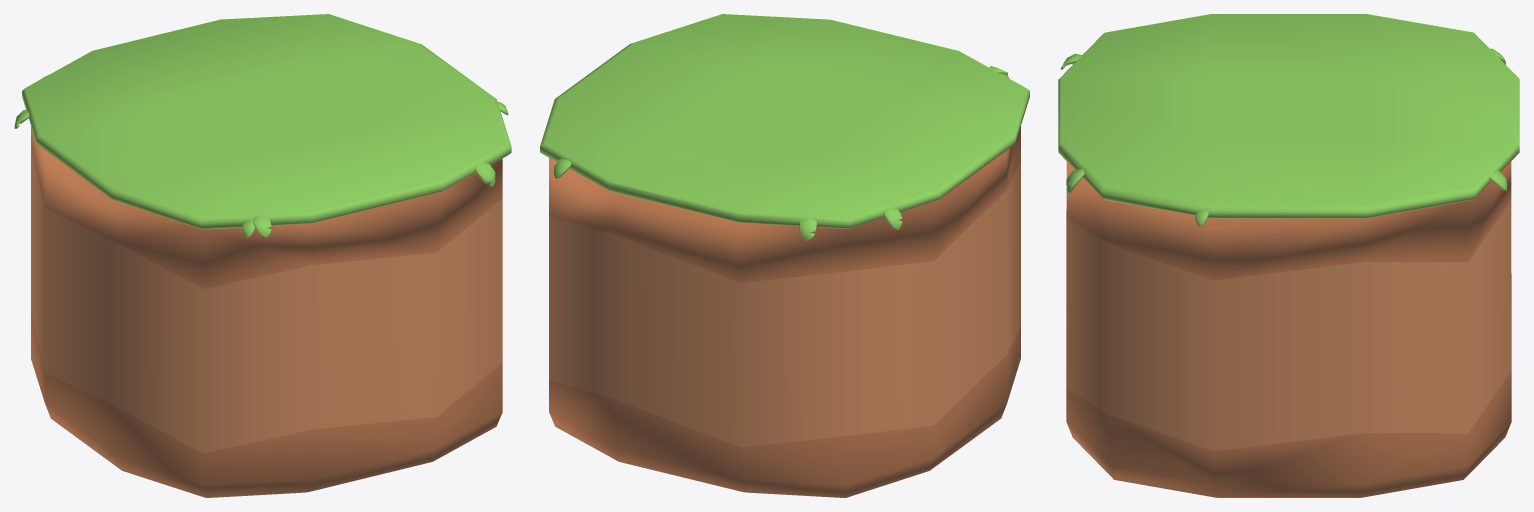
Rendered from platform_04.glb.
3 renders of one model, left to right at view 1: azimuth 30°, elevation 25°; view 2: azimuth 150°, elevation 25°; view 3: azimuth 270°, elevation 25°, orthographic. The views are drawn at different scales.
Visible parts, largest first — view 1: platform 01_toon_material_0.026; view 2: platform 01_toon_material_0.026; view 3: platform 01_toon_material_0.026.
Part boxes in pixels (left/top/right/bottom): platform 01_toon_material_0.026: left=14, top=14, right=511, bottom=497; platform 01_toon_material_0.026: left=540, top=14, right=1029, bottom=497; platform 01_toon_material_0.026: left=1058, top=14, right=1519, bottom=497.
Bounding box in the file's own units: 4.22 × 3 × 4.15.
